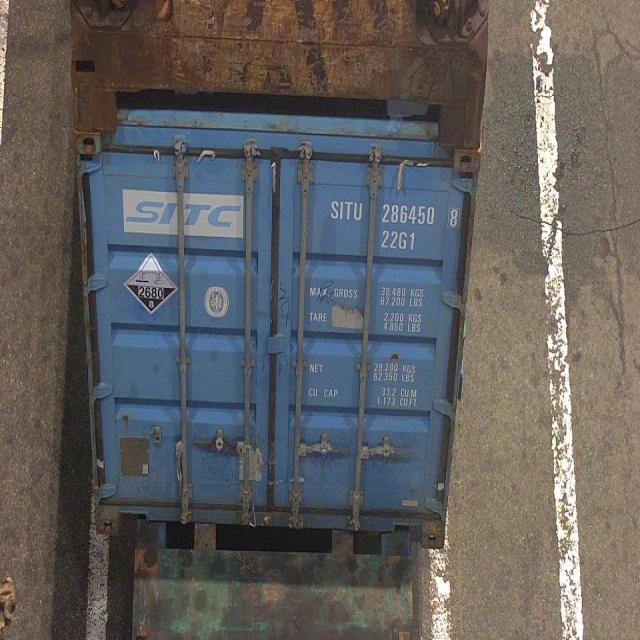ISO: (382, 231, 418, 254)
container_number: (328, 202, 462, 226)
